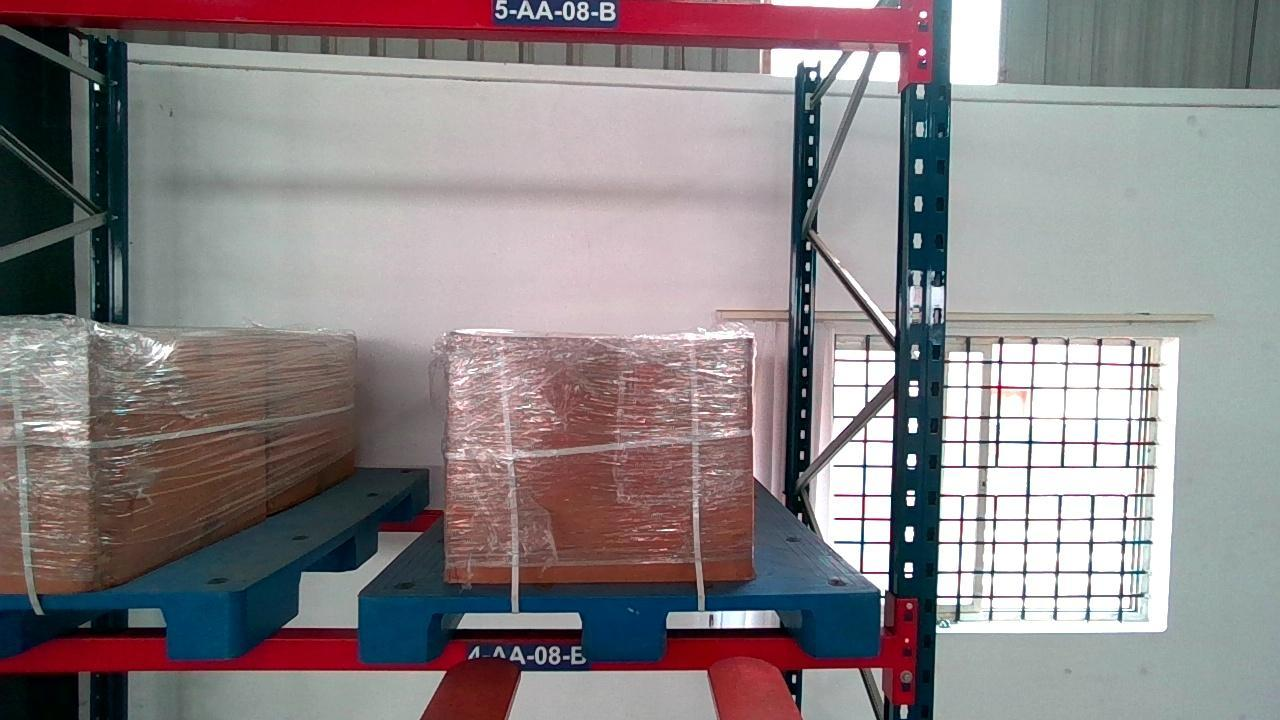h_rack: (0, 0, 906, 41), (1, 631, 899, 671)
small_pallet: (358, 591, 879, 661), (0, 591, 233, 664)
